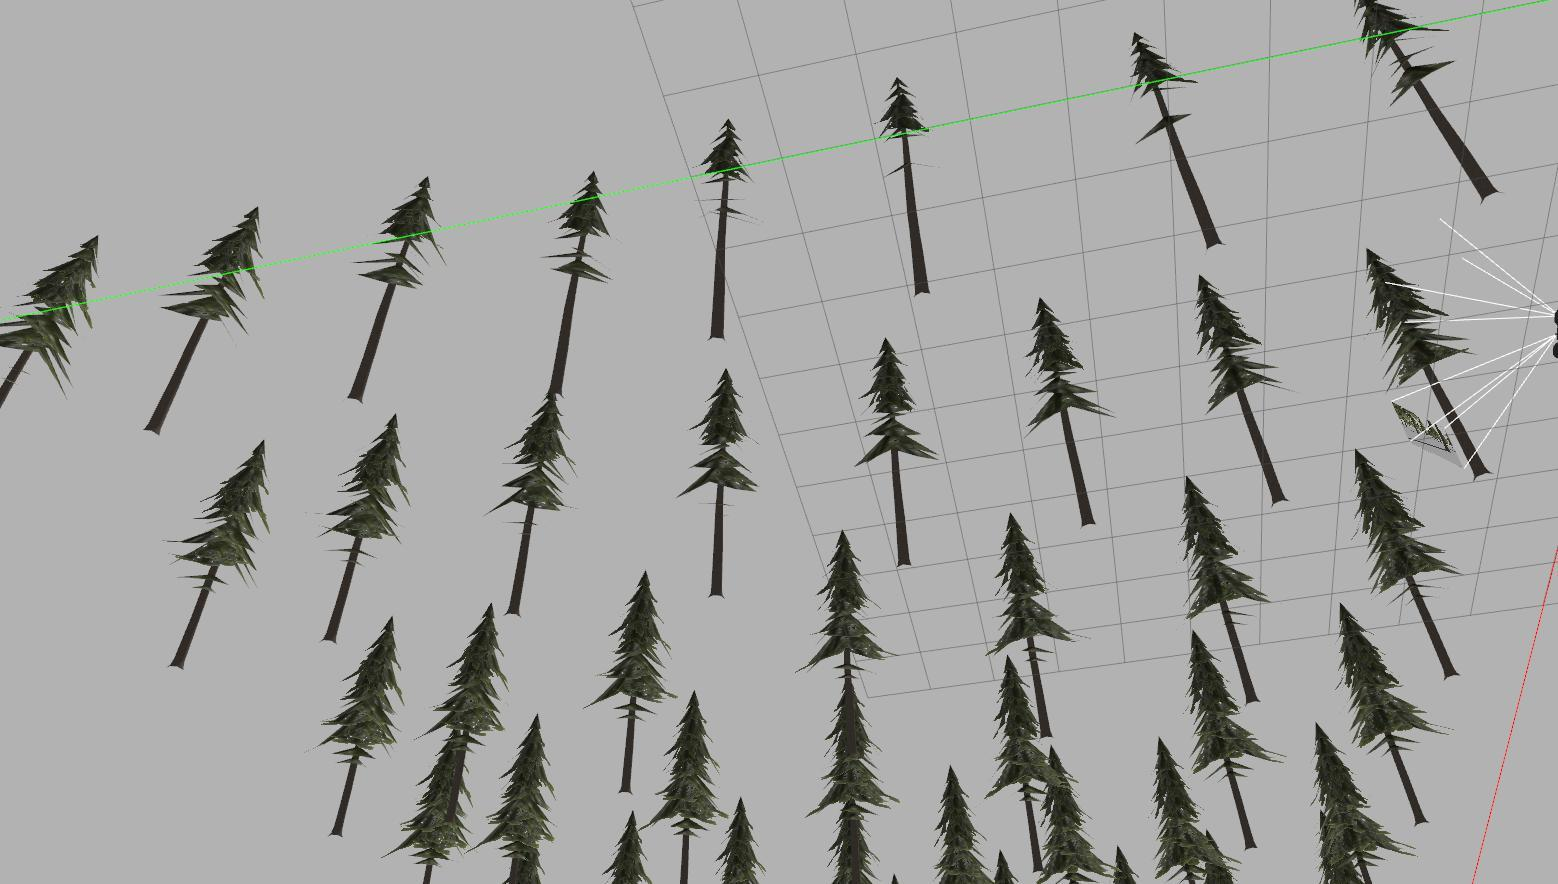tree_gazebo: (1356, 0, 1497, 196), (146, 207, 262, 433), (1354, 451, 1457, 677), (170, 441, 268, 668), (1341, 606, 1442, 823), (350, 177, 439, 400), (1190, 632, 1281, 848), (322, 417, 408, 642), (1183, 477, 1266, 703), (1133, 33, 1220, 245), (989, 515, 1071, 735), (322, 618, 401, 837), (1032, 299, 1108, 527), (594, 573, 672, 794), (497, 393, 572, 614), (0, 238, 97, 403), (685, 371, 754, 596), (648, 694, 724, 884), (986, 657, 1047, 870), (551, 173, 609, 396), (989, 515, 1071, 654), (703, 119, 749, 336), (883, 79, 928, 295), (937, 767, 989, 884), (709, 173, 730, 338)
